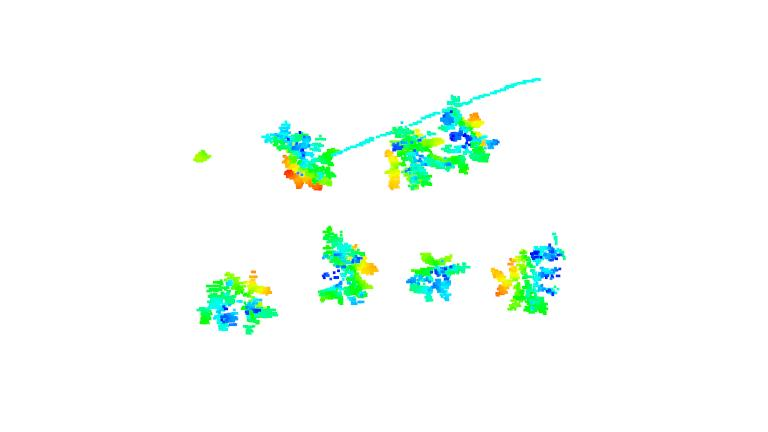chickpea: (489, 236, 572, 316), (194, 268, 285, 338), (261, 120, 342, 193), (440, 94, 504, 176), (314, 227, 376, 304), (385, 121, 446, 193), (405, 251, 475, 302)
